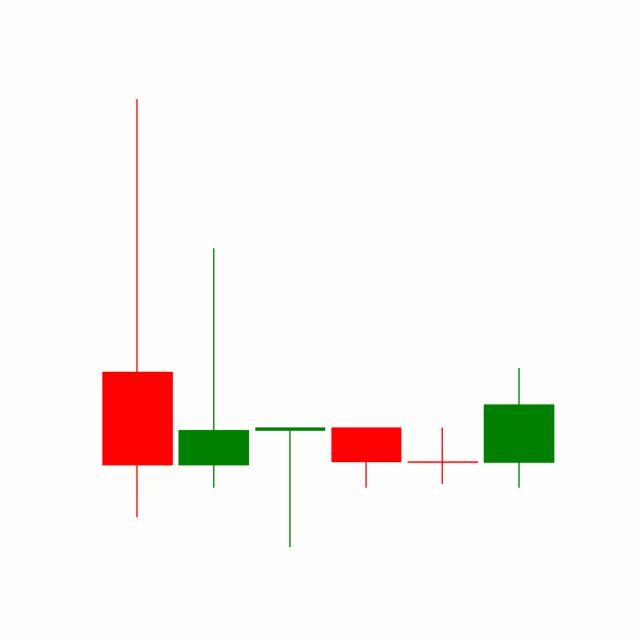Spinning Top: (404, 427, 482, 486)
